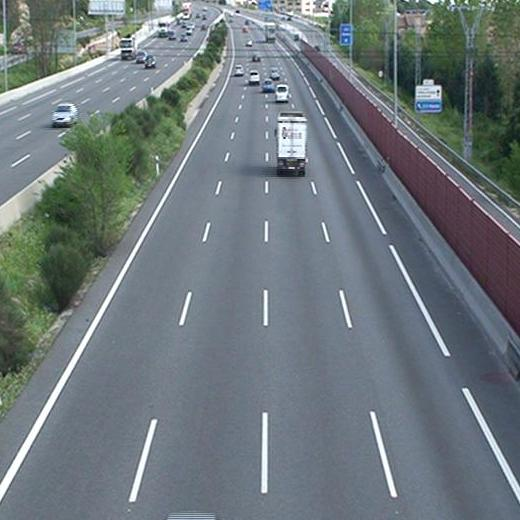car: (231, 63, 243, 78), (262, 79, 273, 92), (270, 67, 281, 79), (248, 71, 258, 84), (250, 51, 260, 61)
small-truck: (273, 113, 307, 176)
truck: (263, 23, 278, 43)
van: (275, 84, 289, 100)
